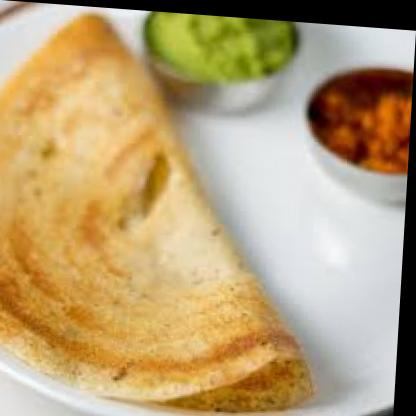dosa: (0, 8, 336, 413)
